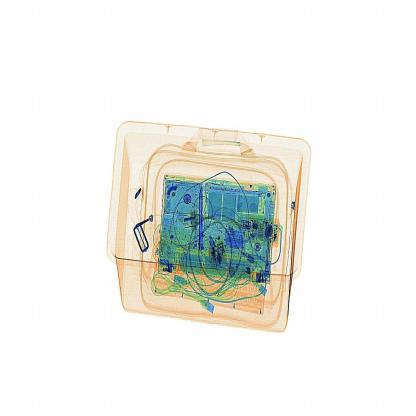pliers: (192, 179, 210, 258)
